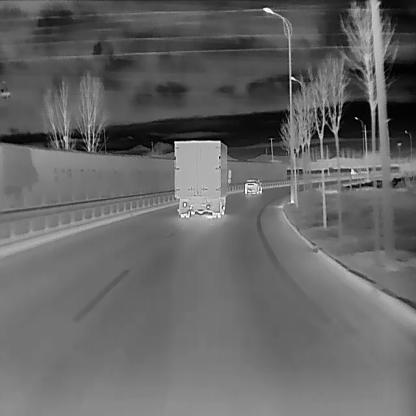car: (244, 178, 262, 194)
truck: (173, 137, 231, 218)
